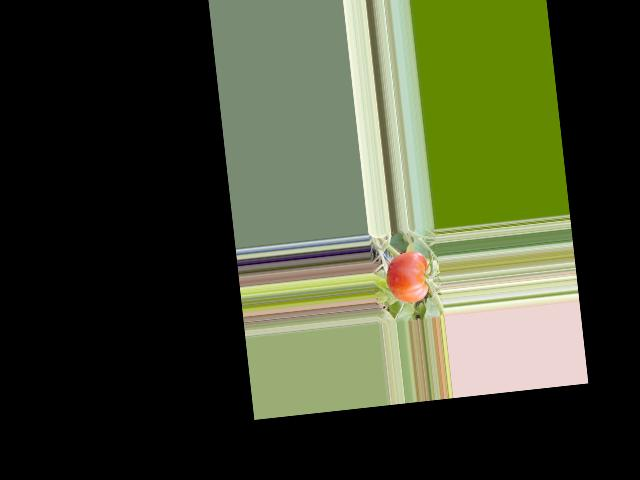tomato: (383, 249, 431, 304)
